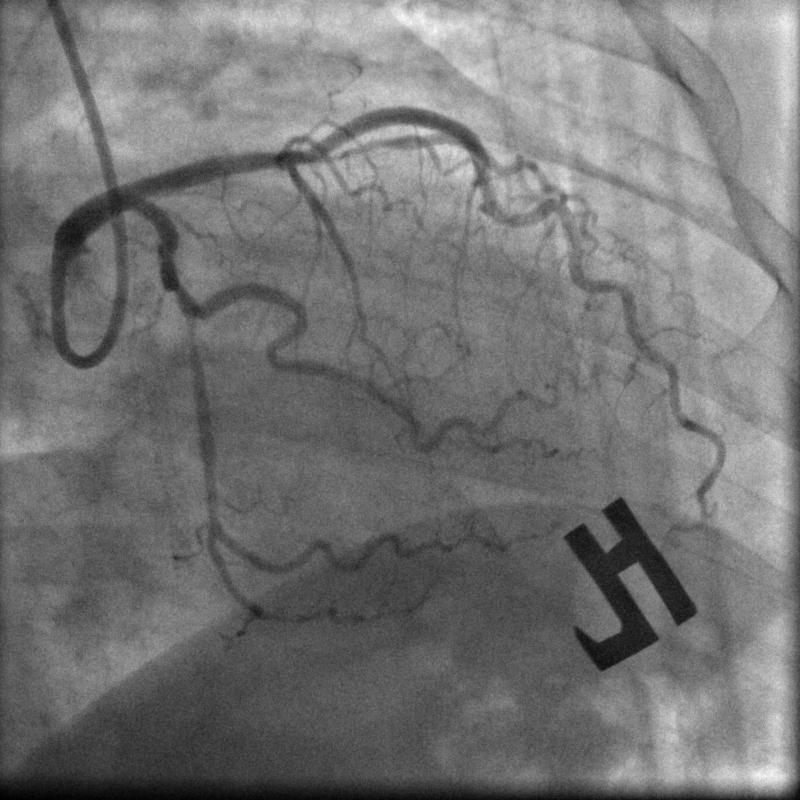Stenosis: (158, 239, 205, 312)
